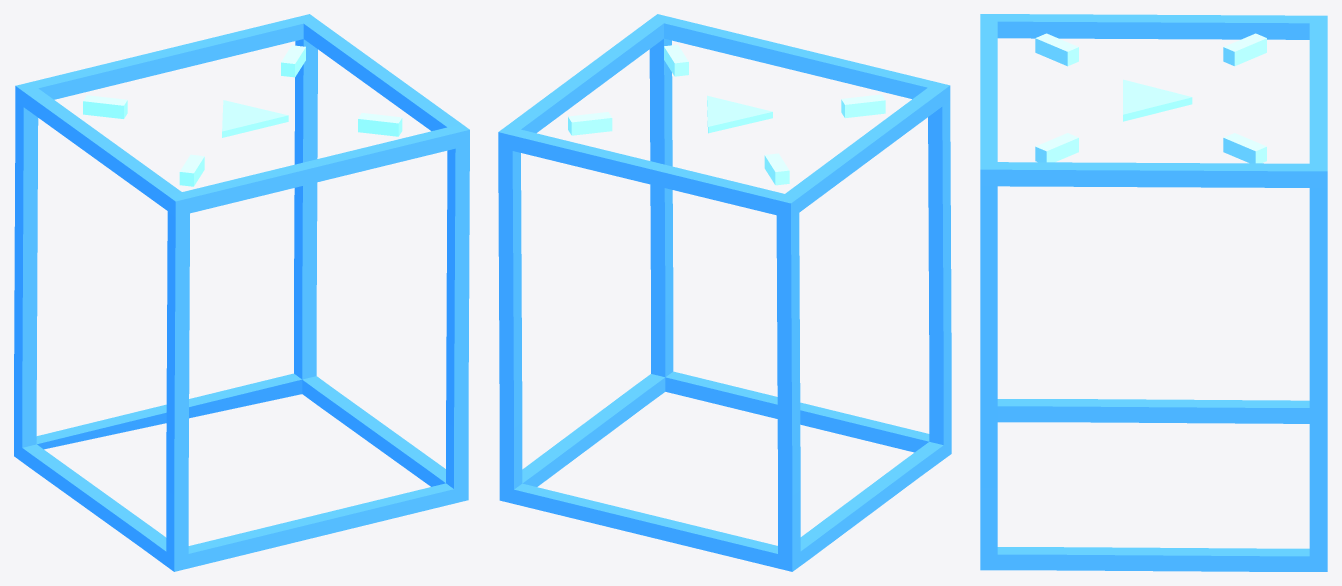
3 views of the same model, side by side, from view 1: azimuth 30°, elevation 25°; view 2: azimuth 150°, elevation 25°; view 3: azimuth 270°, elevation 25° (orthographic). The views are drawn at different scales.
Visible parts, largest first — view 1: 立方体.031, 立方体.032, 立方体.029, 立方体.030; view 2: 立方体.031, 立方体.032, 立方体.029, 立方体.030; view 3: 立方体.031, 立方体.032, 立方体.030, 立方体.029.
Boxes of the visible parts, x1,y1,x2,y2 form: 立方体.031: (14, 14, 469, 571); 立方体.032: (83, 95, 204, 186); 立方体.029: (222, 100, 288, 137); 立方体.030: (281, 45, 402, 136); 立方体.031: (498, 14, 951, 571); 立方体.032: (764, 94, 885, 185); 立方体.029: (707, 95, 772, 133); 立方体.030: (568, 44, 688, 135); 立方体.031: (980, 14, 1327, 571); 立方体.032: (1035, 33, 1266, 66); 立方体.030: (1035, 133, 1266, 163); 立方体.029: (1123, 79, 1192, 121).
Bounding box in the file's own units: 188 × 200 × 241.
